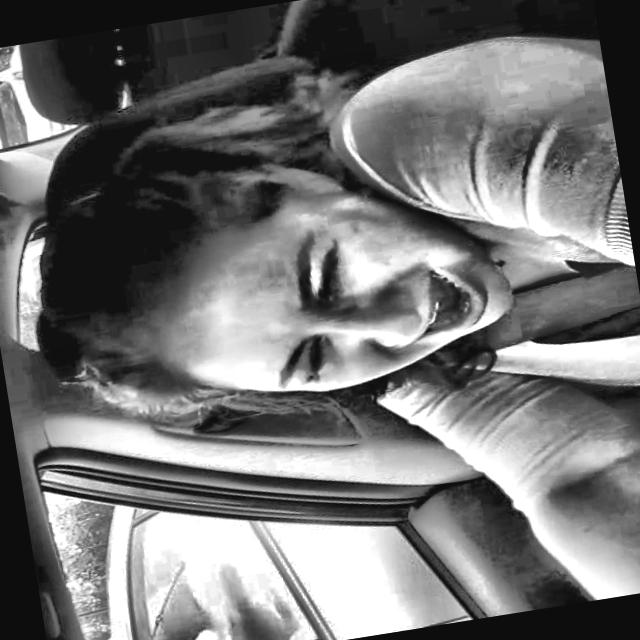closed_eyes: (296, 228, 364, 315), (286, 335, 352, 396)
open_mouth: (418, 253, 501, 361)
